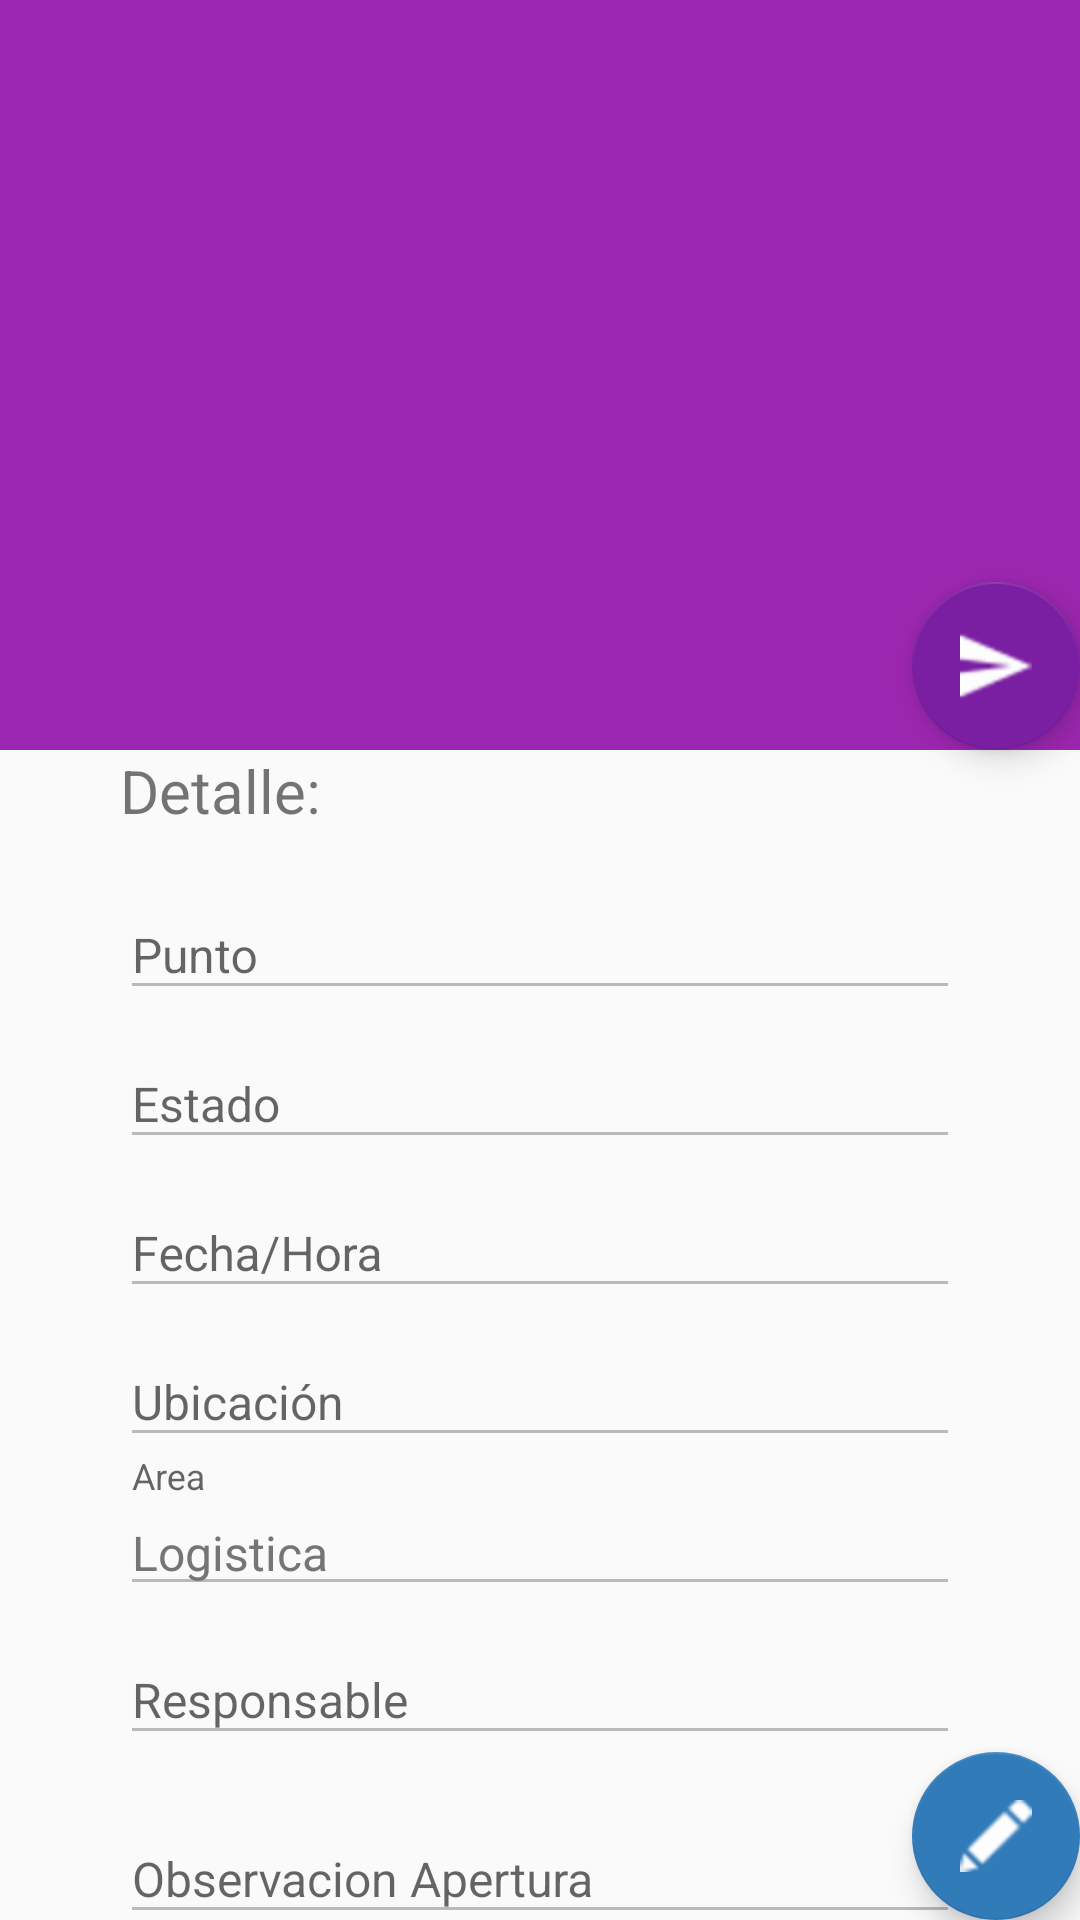

Screen size 1080px×1920px. Icon name, then its center in pixels as (x,y):
editar: (996,1836)
sendbutton: (996,666)
